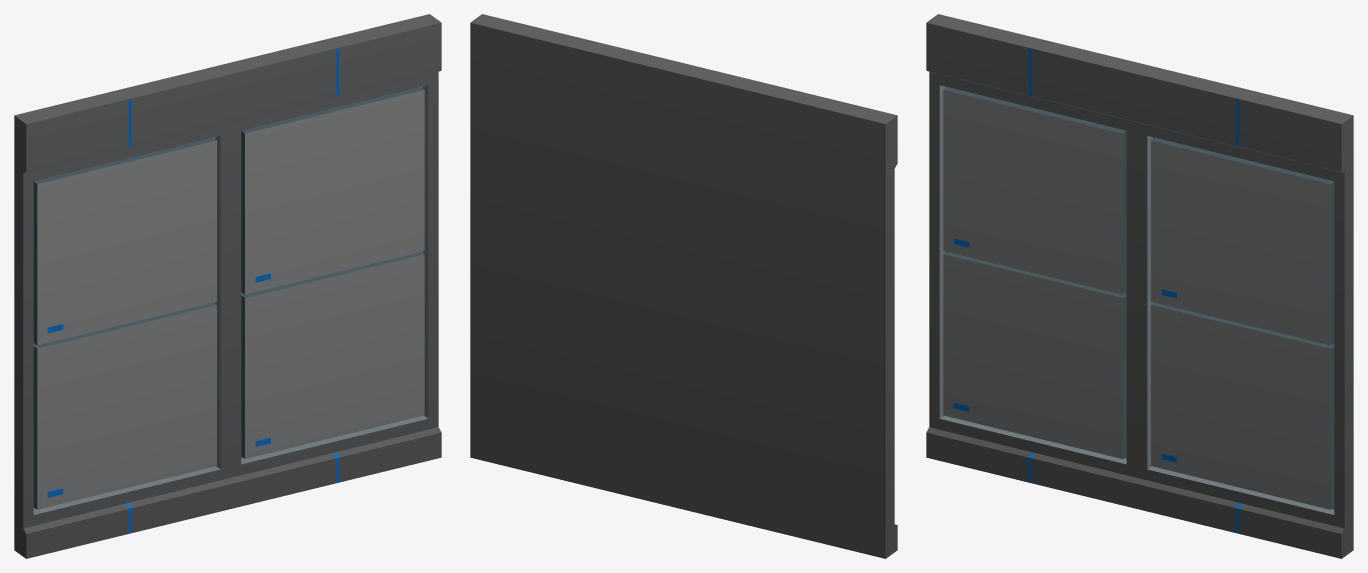
The model's file is Wall_type_B_008.fbx.
The picture shows the model from 3 angles, left to right: view 1: azimuth 30°, elevation 25°; view 2: azimuth 150°, elevation 25°; view 3: azimuth 330°, elevation 25°; orthographic projection.
Parts seen in each view (by area): view 1: Wall_type_B_008; view 2: Wall_type_B_008; view 3: Wall_type_B_008.
Boxes of the visible parts, bbox=[...] form: Wall_type_B_008: bbox=[14, 14, 441, 558]; Wall_type_B_008: bbox=[470, 14, 897, 558]; Wall_type_B_008: bbox=[926, 14, 1353, 558].
Bounding box in the file's own units: 400 × 20 × 400.
